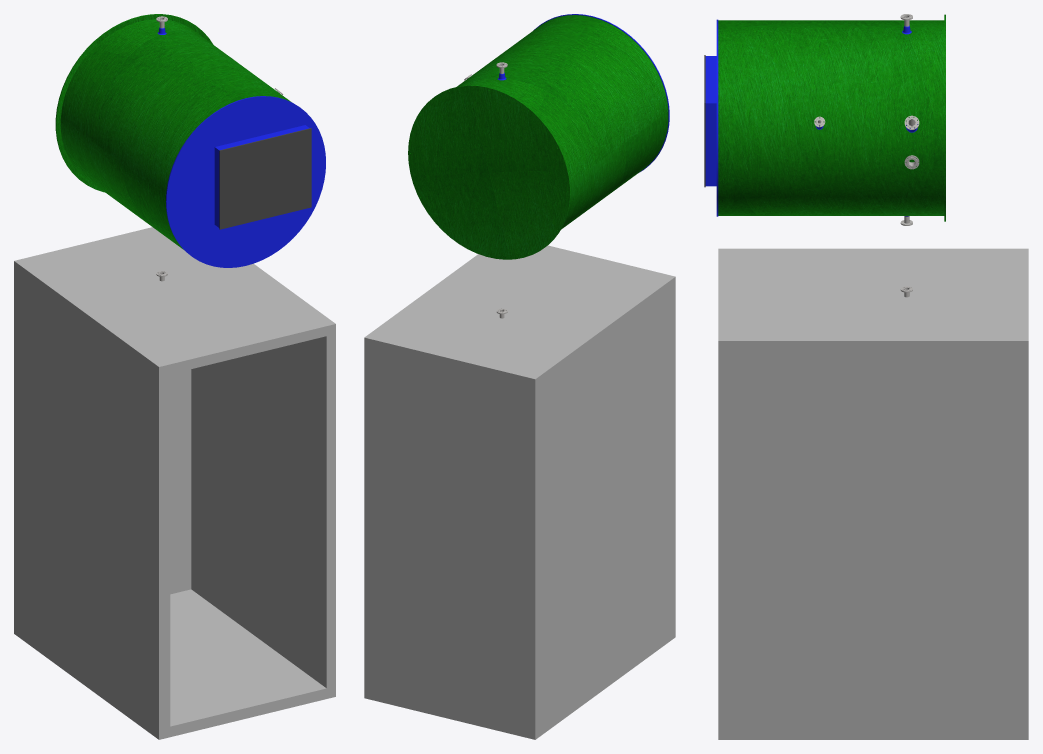
The model's file is ECOWARD-SPD-filter.glb.
3 renders of one model, left to right at view 1: azimuth 30°, elevation 25°; view 2: azimuth 150°, elevation 25°; view 3: azimuth 270°, elevation 25°, orthographic. The views are drawn at different scales.
Parts seen in each view (by area): view 1: Твердое тело1 (×4); view 2: Твердое тело1 (×2); view 3: Твердое тело1 (×3).
Part boxes in pixels (x1,y1,x2,y2): Твердое тело1 (×4): (14, 14, 335, 739); Твердое тело1 (×2): (364, 15, 675, 739); Твердое тело1 (×3): (705, 14, 1028, 739).
Bounding box in the file's own units: 3.17 × 10.86 × 4.7.
15 materials, 1 textured.
